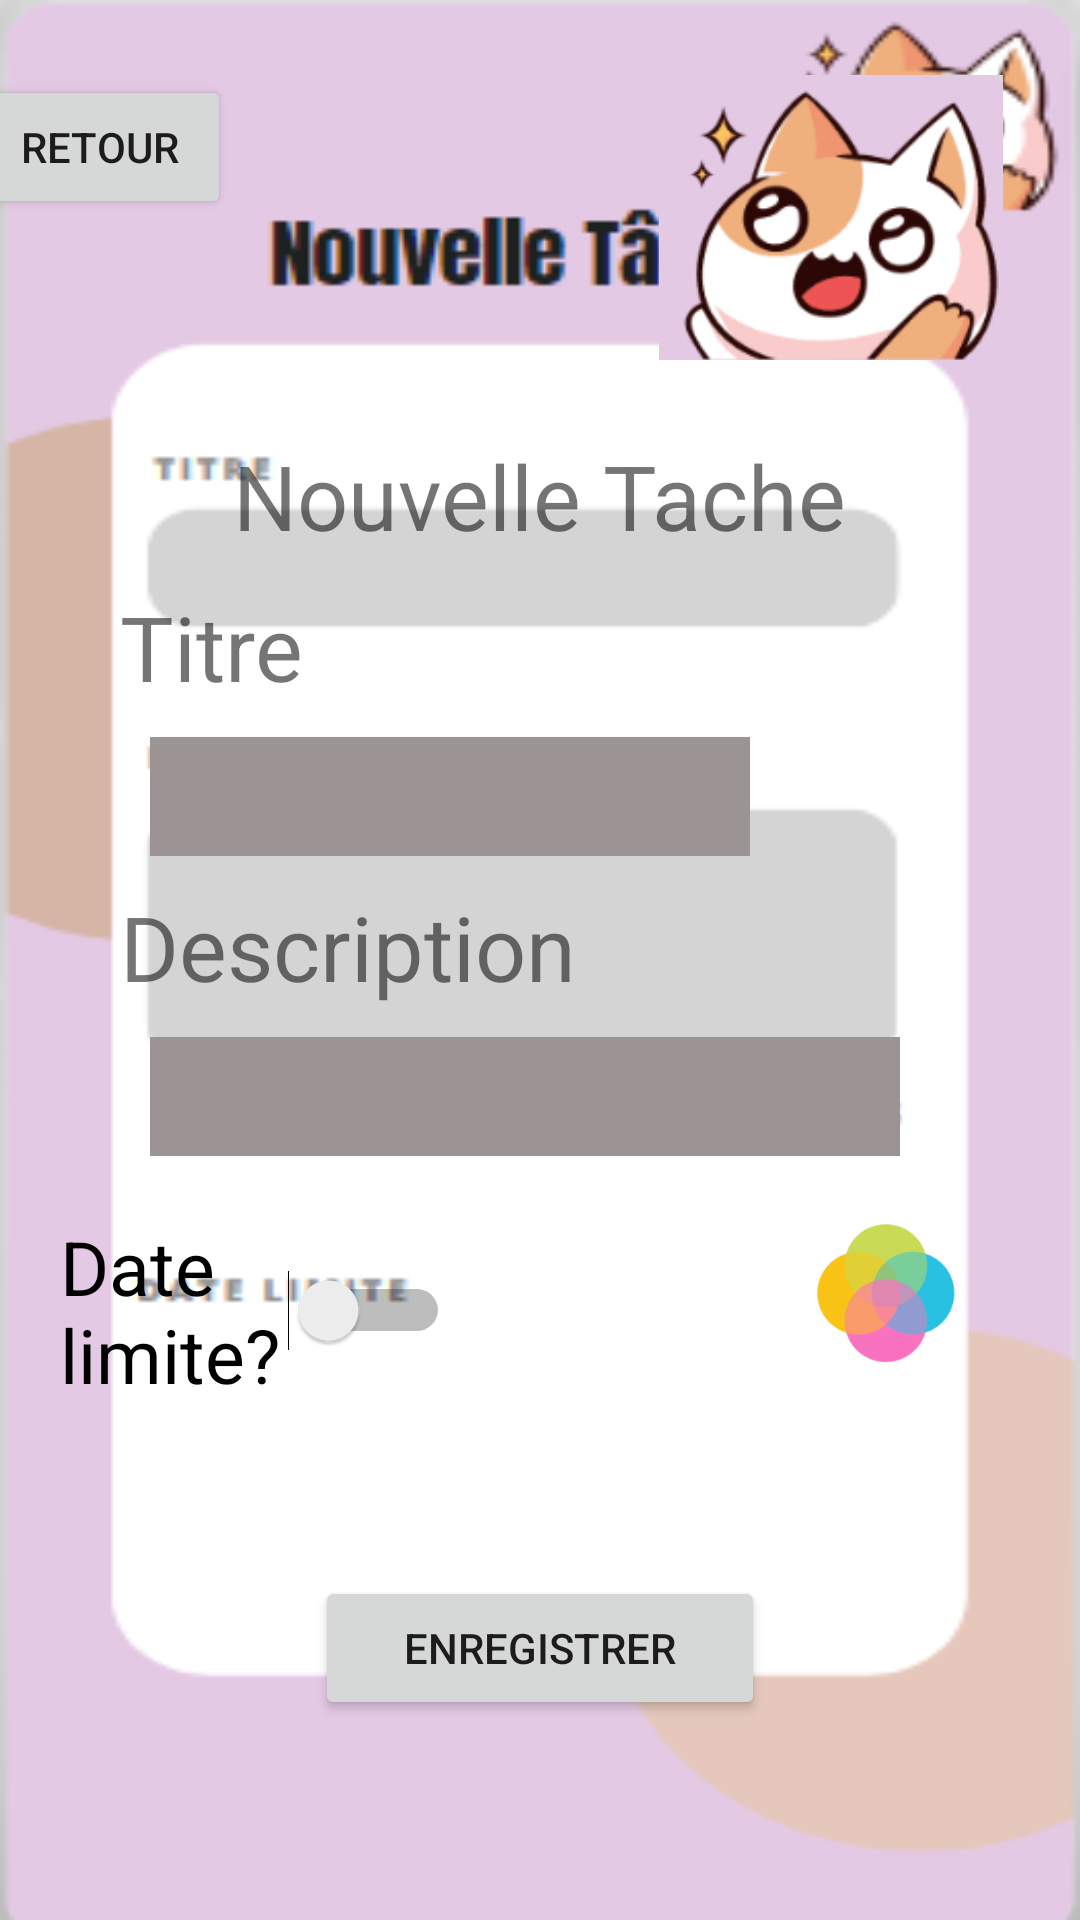

Icon click points for this 1080px×1920px phone screenshot, format (x,y):
panelle couleur: (886,1293)
